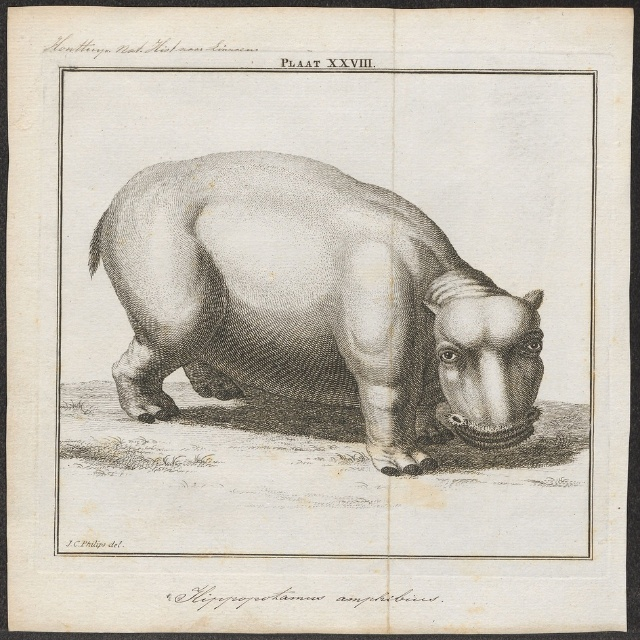Pig: (88, 150, 542, 478)
